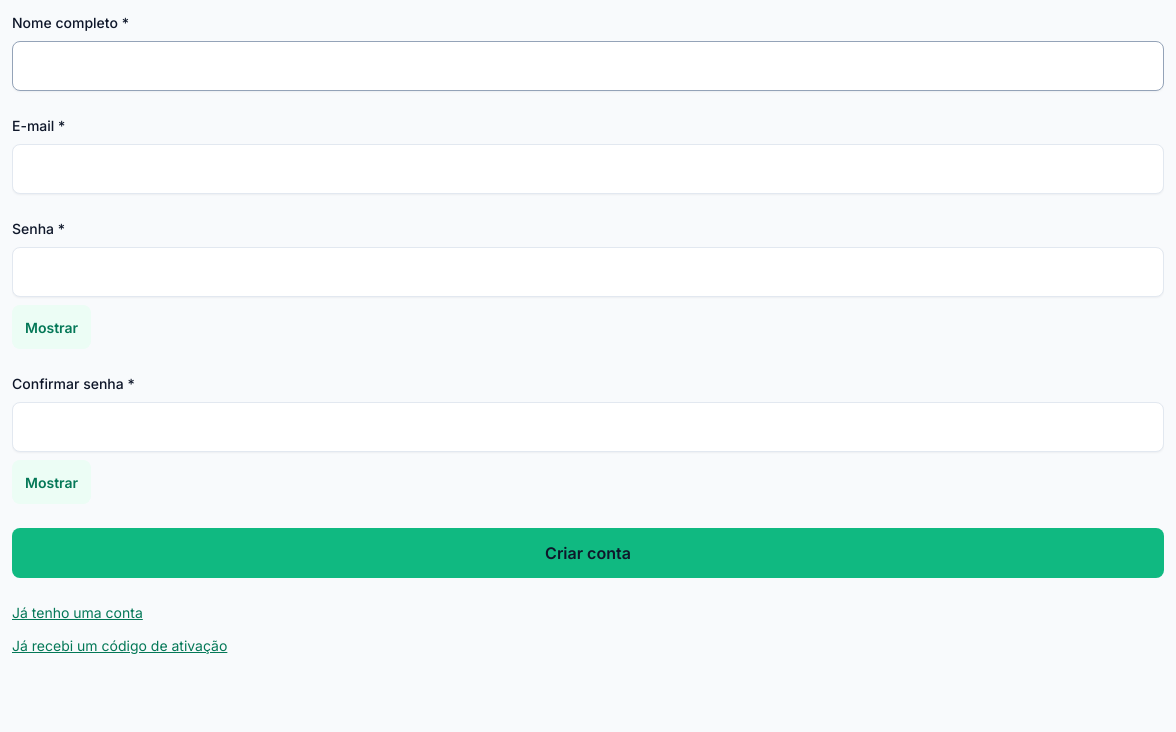
registration form › handles transport failures without losing user input
In the field labelled "Nome completo *": (588, 66) [12,41,1164,91], type "Pessoa de teste"
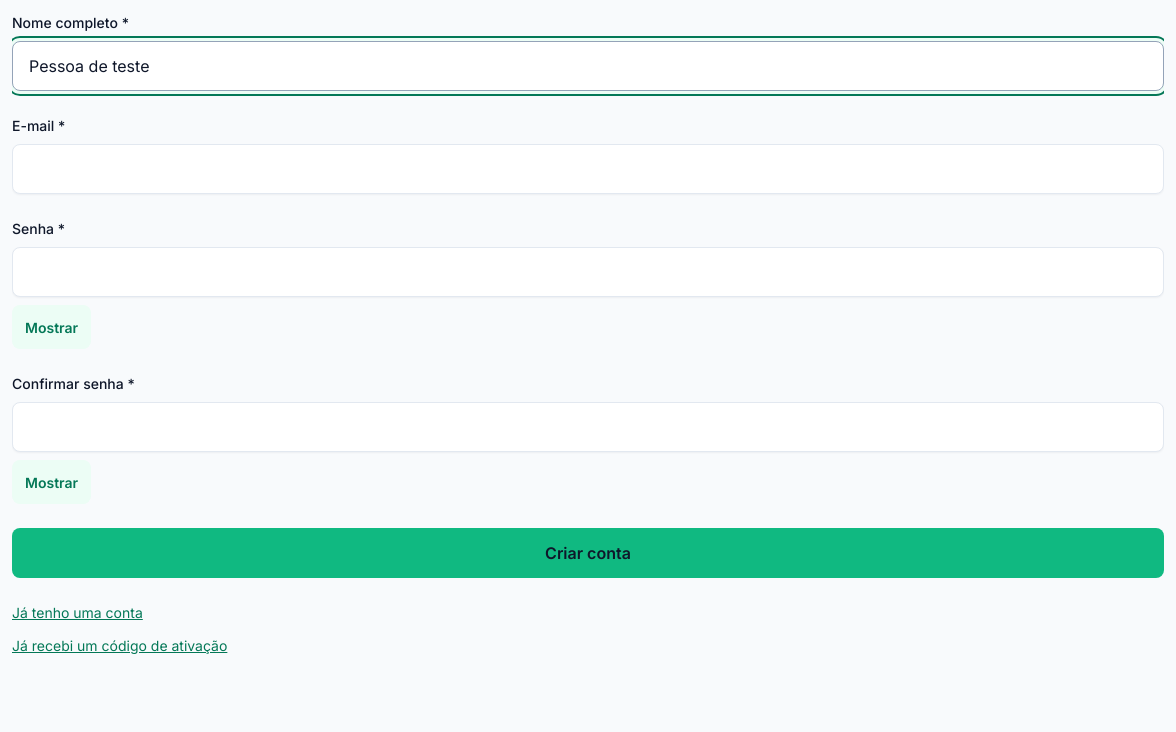
In the field labelled "E-mail *": (588, 169) [12,144,1164,194], type "test@example.com"
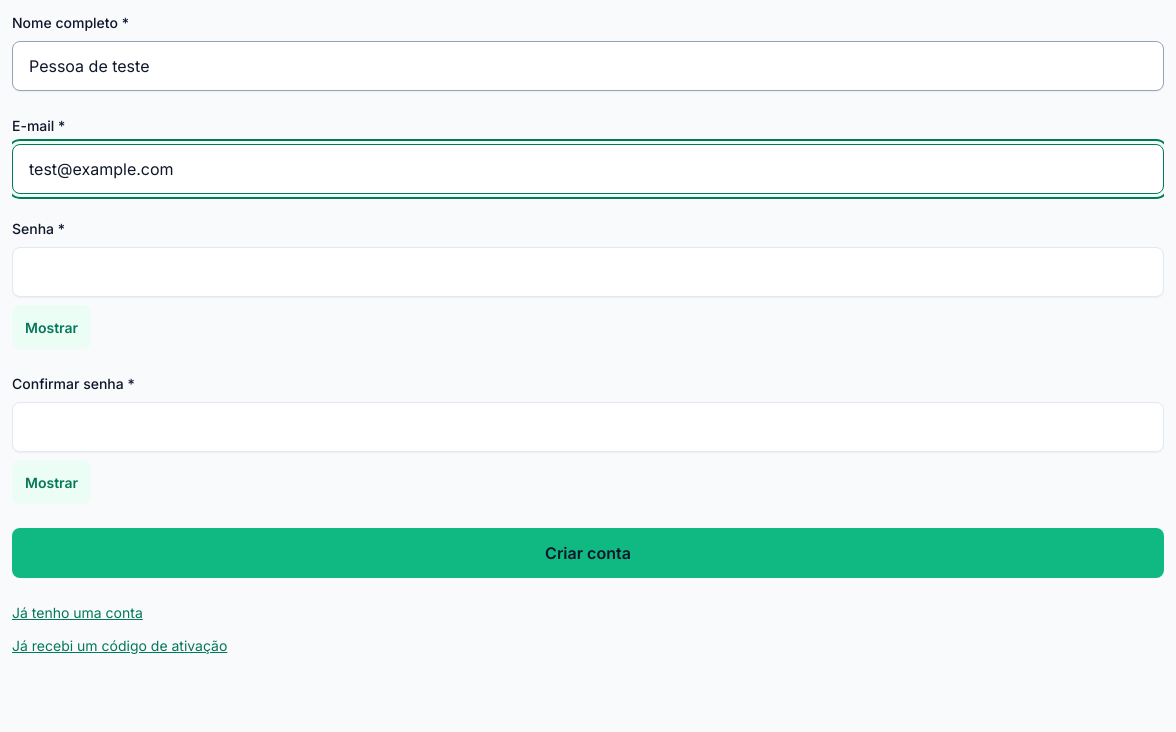
In the password field labelled "Senha *": (588, 272) [12,247,1164,297], type "x"
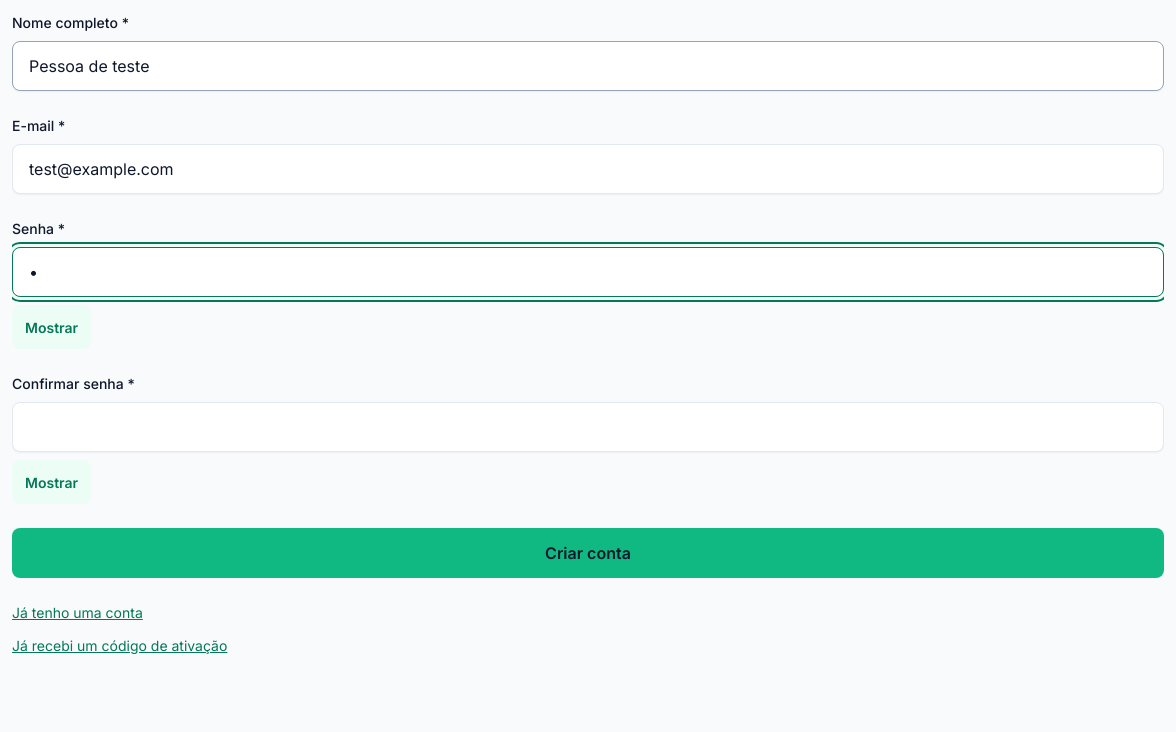
In the password field labelled "Confirmar senha *": (588, 427) [12,402,1164,452], type "x"
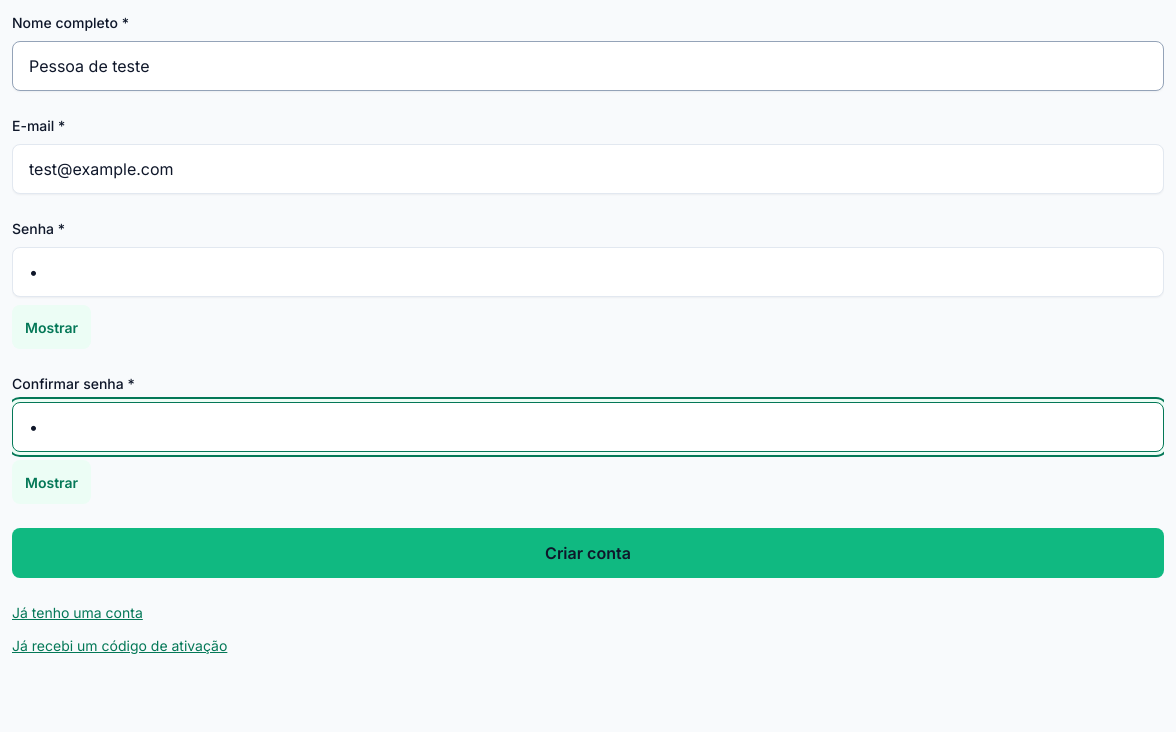
Click the button "Criar conta": (588, 553) [12,528,1164,578]
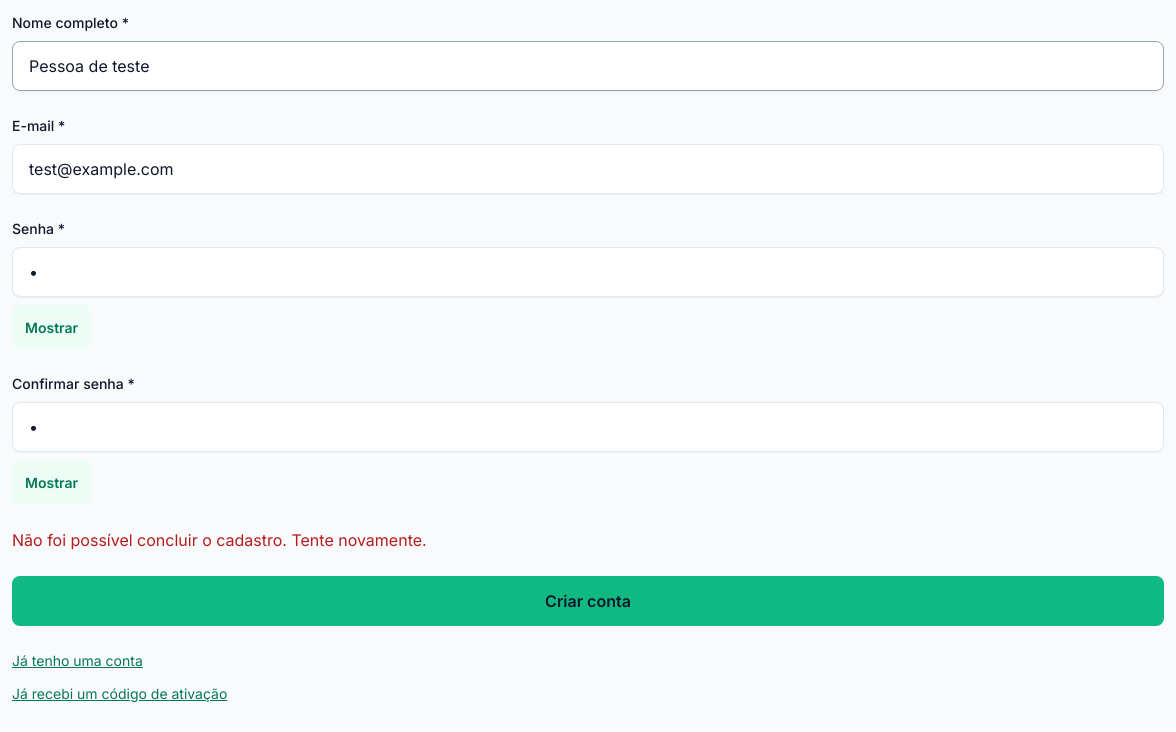
Check: the text "Não foi possível concluir o cadastro. Tente novamente." is shown, box [12,530,427,550]
